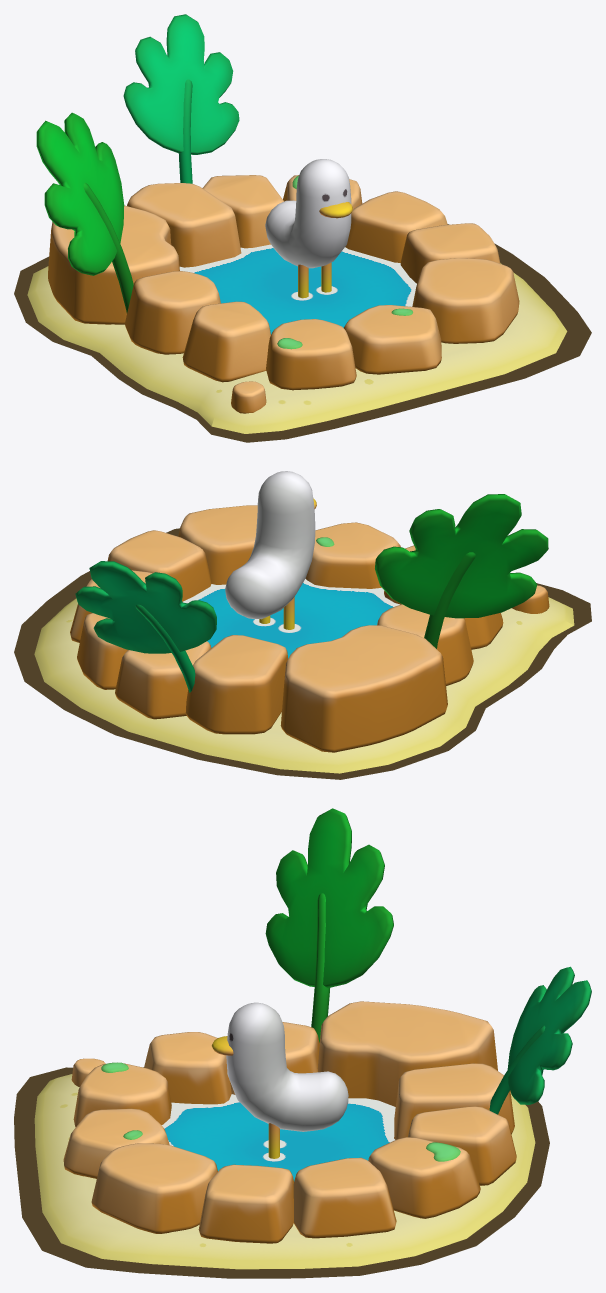
Rendered from Pool.fbx.
3 views of the same model, one above another, from view 1: azimuth 30°, elevation 25°; view 2: azimuth 150°, elevation 25°; view 3: azimuth 270°, elevation 25° (orthographic). The views are drawn at different scales.
Parts seen in each view (by area): view 1: polySurface68_polySurface62, group36_pCylinder55, polySurface72, pSphere42; view 2: polySurface68_polySurface62, group36_pCylinder55, pSphere42, polySurface72; view 3: polySurface68_polySurface62, group36_pCylinder55, polySurface72, pSphere42.
Part boxes in pixels (x1,y1,x2,y2): polySurface68_polySurface62: [27, 175, 567, 433]; group36_pCylinder55: [36, 14, 239, 312]; polySurface72: [14, 224, 591, 442]; pSphere42: [265, 159, 352, 298]; polySurface68_polySurface62: [34, 505, 574, 773]; group36_pCylinder55: [75, 494, 548, 692]; pSphere42: [225, 471, 316, 629]; polySurface72: [14, 528, 591, 779]; polySurface68_polySurface62: [34, 1001, 535, 1269]; group36_pCylinder55: [265, 808, 591, 1114]; polySurface72: [14, 1067, 549, 1278]; pSphere42: [211, 1002, 348, 1158].
Size of the model in its own units: 366 by 166 by 368.
